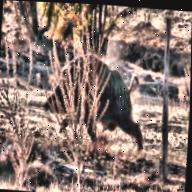boar: (42, 52, 148, 149)
